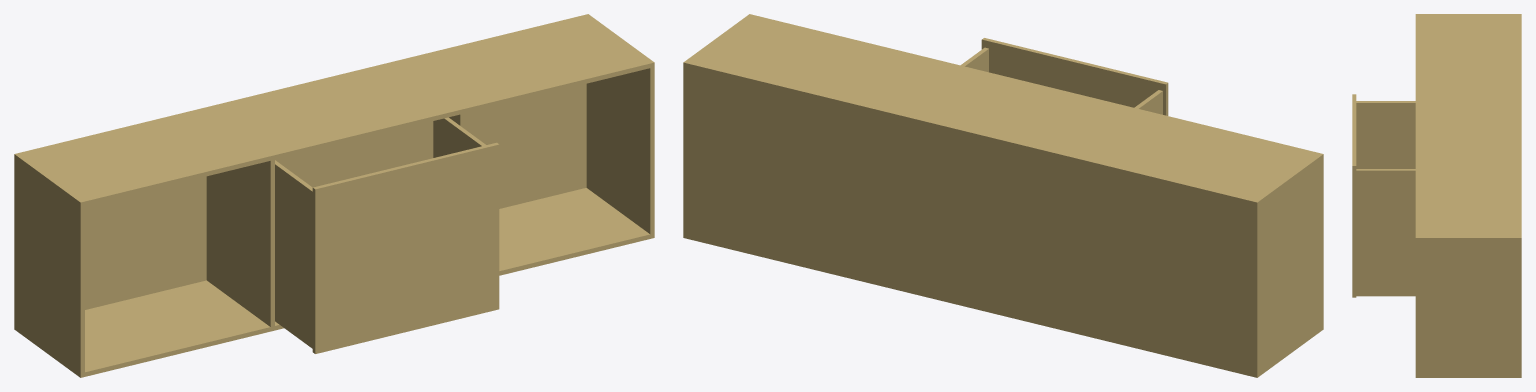
File: meuble_691311bac3b1c.glb
The picture shows the model from 3 angles, left to right: view 1: azimuth 30°, elevation 25°; view 2: azimuth 150°, elevation 25°; view 3: azimuth 270°, elevation 25°; orthographic projection. The views are drawn at different scales.
Parts seen in each view (by area): view 1: world; view 2: world; view 3: world.
Boxes of the visible parts, x1,y1,x2,y2 form: world: (14,14,654,377); world: (683,14,1323,377); world: (1352,14,1521,377).
Size of the model in its own units: 2.5 by 0.73 by 0.8.
